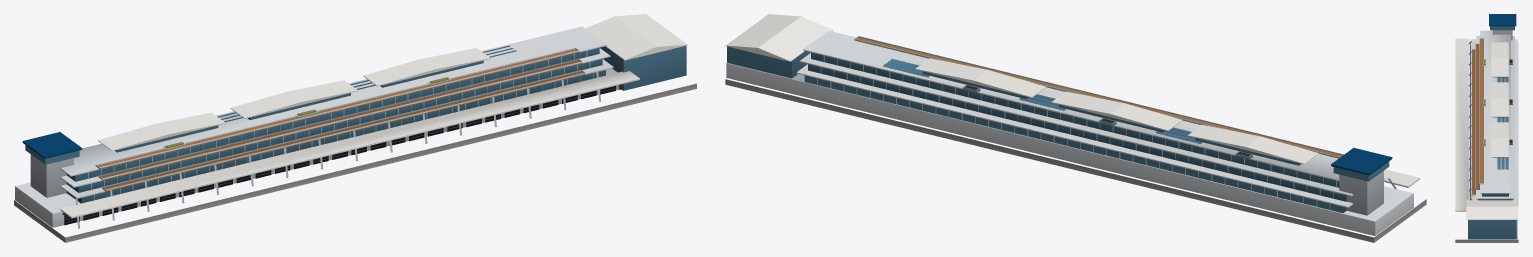
File: pit-conference-building.glb
3 renders of one model, left to right at view 1: azimuth 30°, elevation 25°; view 2: azimuth 150°, elevation 25°; view 3: azimuth 270°, elevation 25°, orthographic. The views are drawn at different scales.
Visible parts, largest first — view 1: pit-conference-building; view 2: pit-conference-building; view 3: pit-conference-building.
Part boxes in pixels (box(x1,y1,x2,y2)): pit-conference-building: box(14, 14, 696, 242); pit-conference-building: box(725, 14, 1426, 242); pit-conference-building: box(1455, 14, 1518, 242).
Size of the model in its own units: 370 by 36 by 52.
